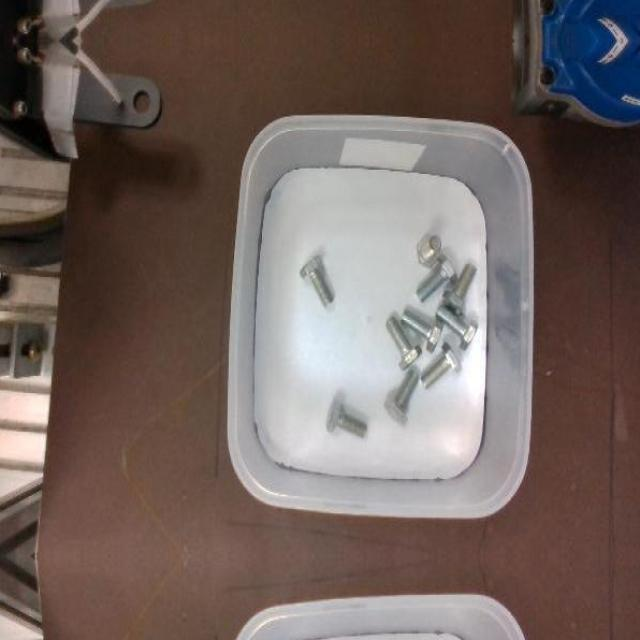screw: (416, 252, 458, 302), (421, 342, 463, 391), (384, 370, 420, 426), (386, 316, 423, 370), (435, 304, 478, 349), (400, 308, 442, 353), (298, 255, 333, 308), (442, 262, 477, 315), (326, 398, 366, 439), (416, 235, 442, 268)
